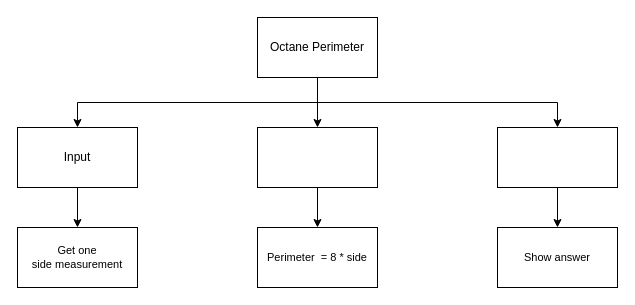
The diagram is 635 pixels wide and 305 high, and some of its shapes have lost their labels. Here are the shapes that lost their labels. From the top down, the centre of each, then its label:
[317,157]: Process
[557,157]: Output
